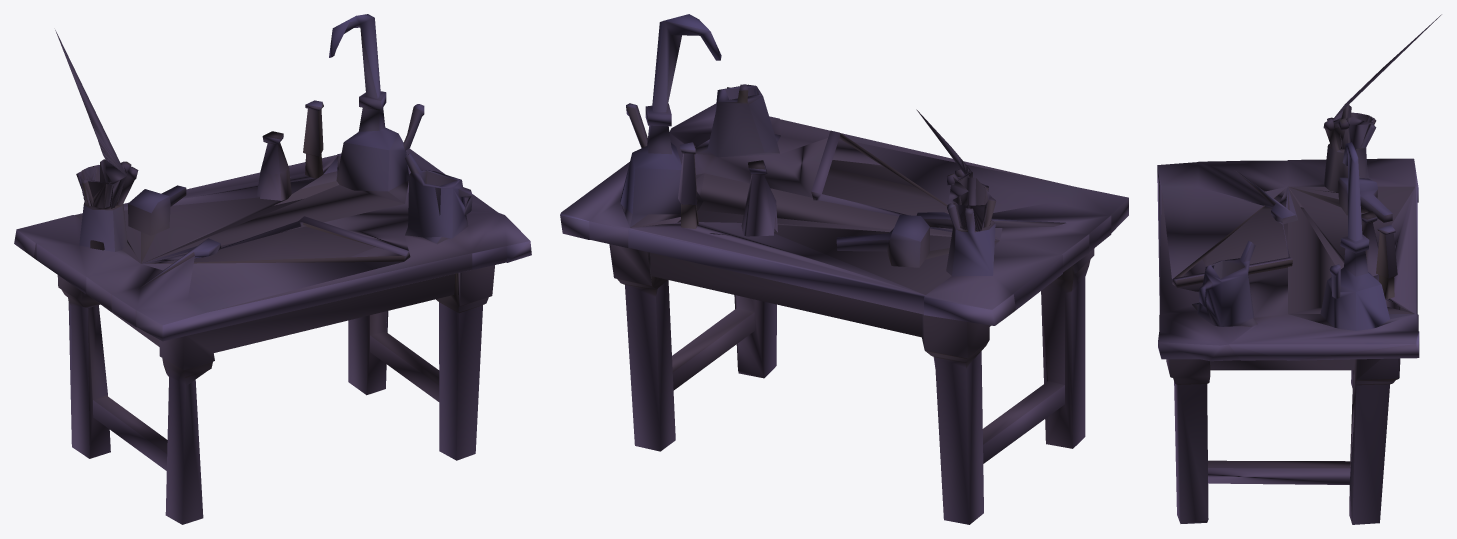
The model's file is model.progressive.glb.
3 views of the same model, side by side, from view 1: azimuth 30°, elevation 25°; view 2: azimuth 150°, elevation 25°; view 3: azimuth 270°, elevation 25° (orthographic). The views are drawn at different scales.
Parts seen in each view (by area): view 1: mesh_input; view 2: mesh_input; view 3: mesh_input.
Boxes of the visible parts, x1,y1,x2,y2 form: mesh_input: [14, 14, 531, 524]; mesh_input: [560, 14, 1128, 524]; mesh_input: [1157, 14, 1441, 524].
Bounding box in the file's own units: 1.89 × 1.84 × 1.25.
1 material, 1 textured.
